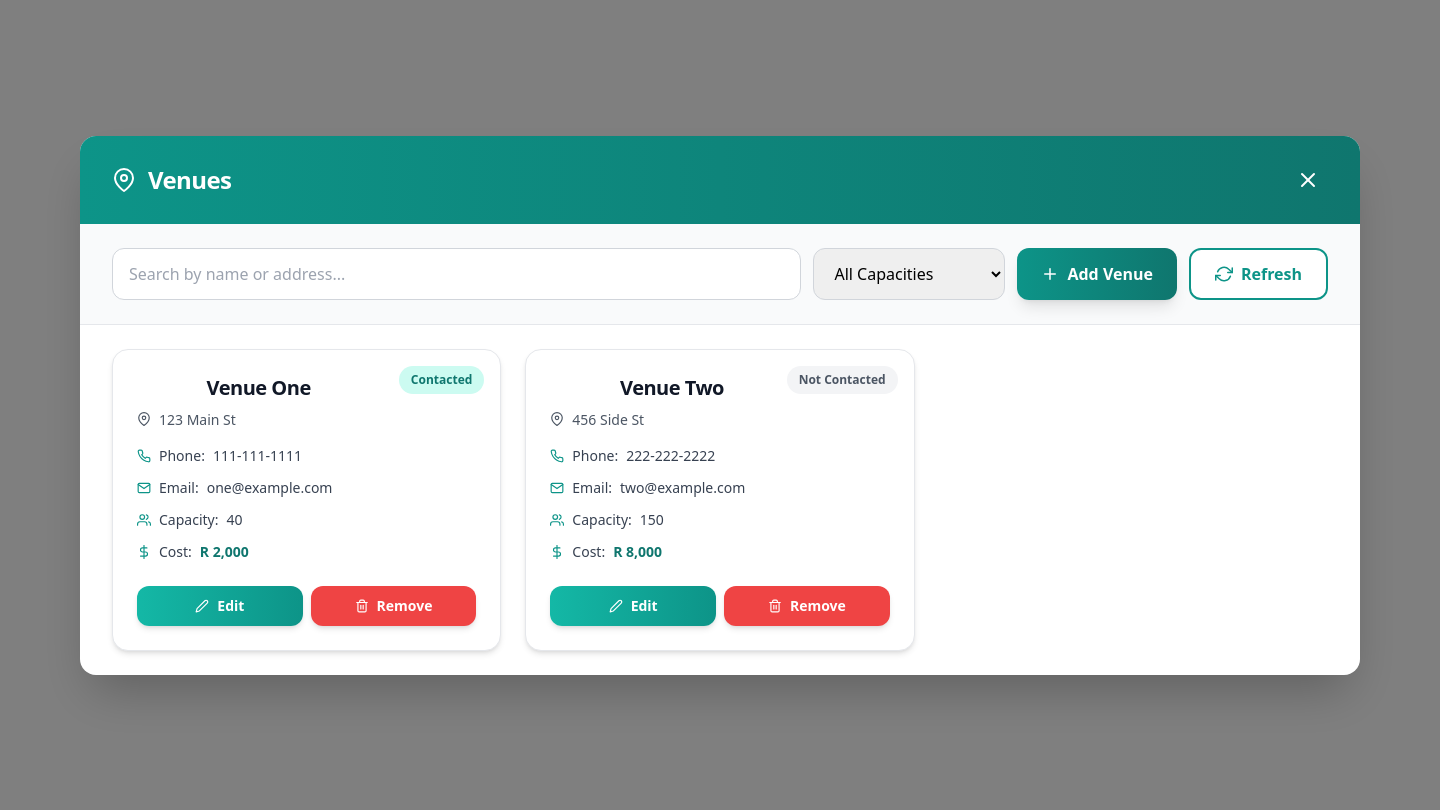
VenuesModal › filters venues by search term
This screenshot has width=1440, height=810.
Check: the heading "Venue One" is shown, box [207, 374, 311, 400]
Type "Two" into the field with placeholder "Search by name or address...". click: (457, 274)
box: [112, 248, 801, 300]
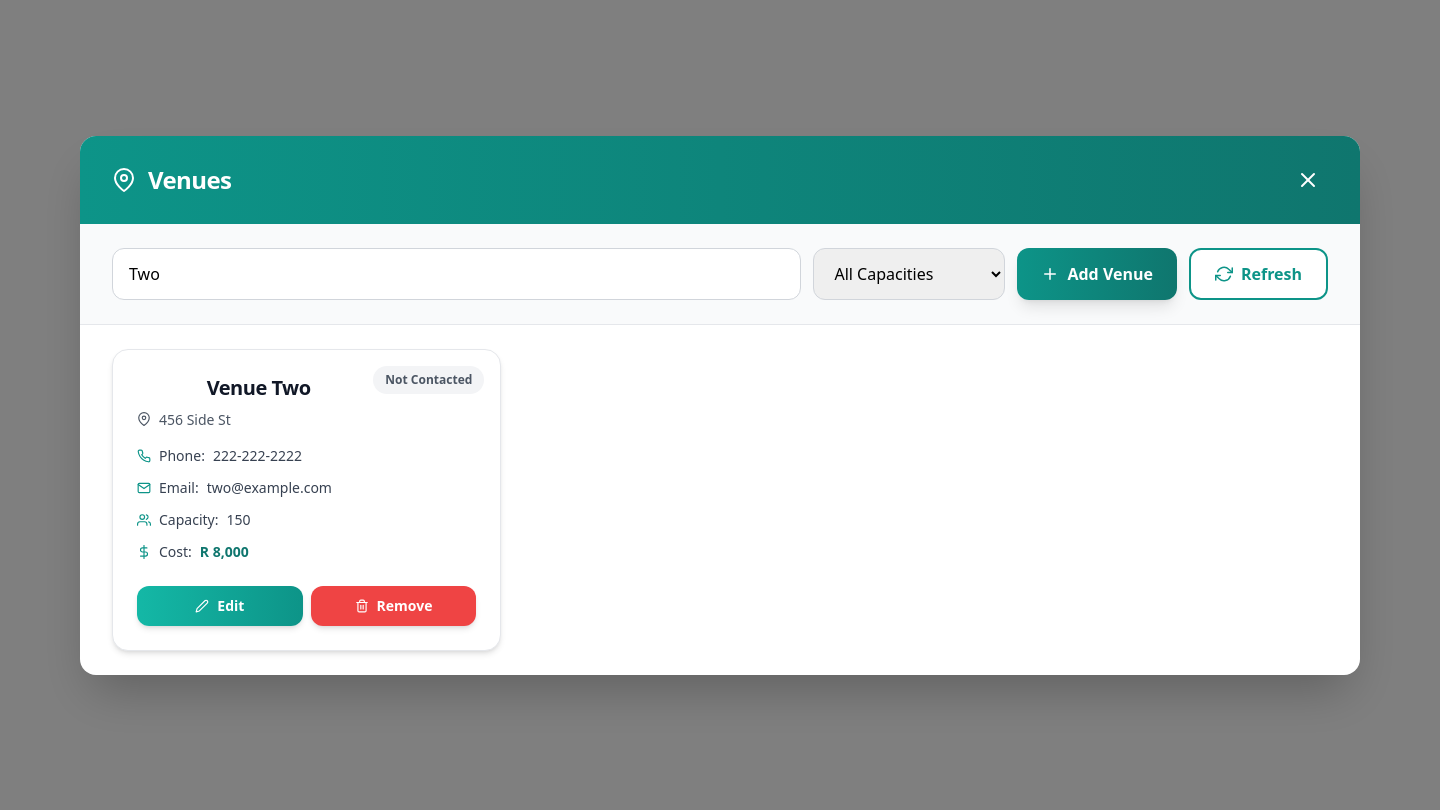
Check: the heading "Venue One" is gone
Check: the heading "Venue Two" is shown, box [207, 374, 311, 400]
